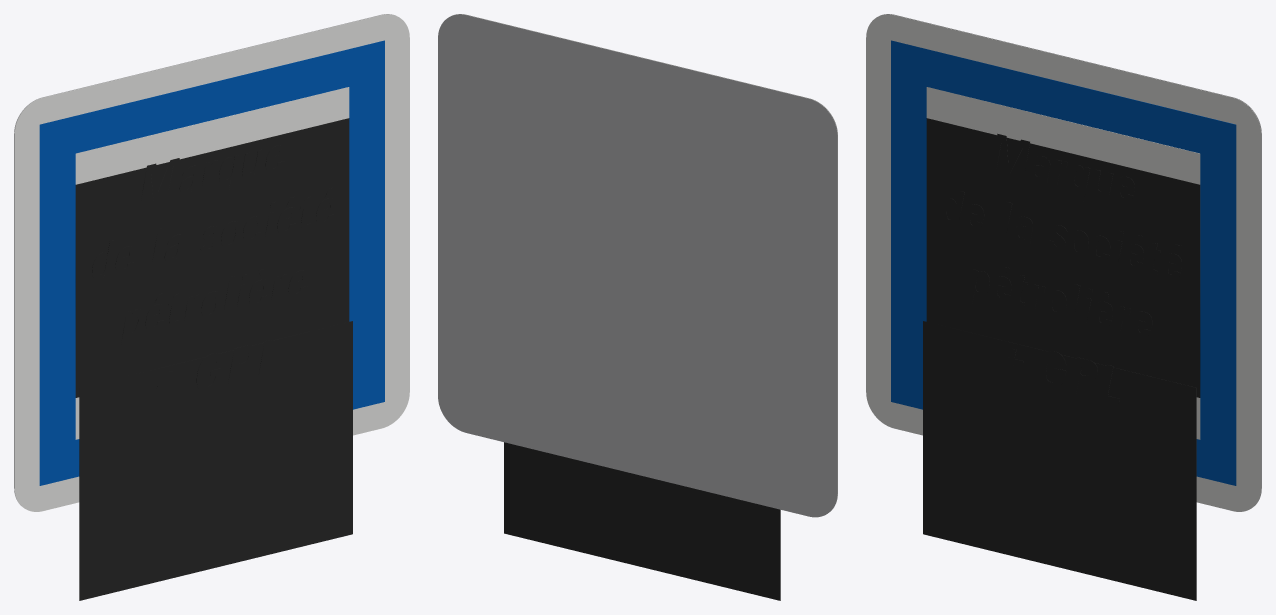
3 renders of one model, left to right at view 1: azimuth 30°, elevation 25°; view 2: azimuth 150°, elevation 25°; view 3: azimuth 330°, elevation 25°, orthographic.
Parts seen in each view (by area): view 1: CE15f_p31, CE15f_p03, CE15f_p01, CE15f_p00, CE15f_p02, CE15f_p04, CE15f_dos, CE15f_p33, CE15f_p34; view 2: CE15f_dos, CE15f_p31, CE15f_p00; view 3: CE15f_p31, CE15f_p03, CE15f_p01, CE15f_p00, CE15f_p02, CE15f_p04, CE15f_dos, CE15f_p33, CE15f_p34.
Part boxes in pixels (x1=…): CE15f_p31: x1=79, y1=321, x2=352, y2=600; CE15f_p03: x1=75, y1=118, x2=349, y2=397; CE15f_p01: x1=39, y1=40, x2=384, y2=485; CE15f_p00: x1=14, y1=14, x2=409, y2=511; CE15f_p02: x1=75, y1=87, x2=349, y2=439; CE15f_p04: x1=140, y1=158, x2=179, y2=204; CE15f_dos: x1=14, y1=14, x2=395, y2=505; CE15f_p33: x1=196, y1=353, x2=223, y2=392; CE15f_p34: x1=227, y1=345, x2=255, y2=387; CE15f_dos: x1=438, y1=14, x2=837, y2=517; CE15f_p31: x1=504, y1=442, x2=780, y2=600; CE15f_p00: x1=452, y1=14, x2=837, y2=511; CE15f_p31: x1=923, y1=321, x2=1196, y2=600; CE15f_p03: x1=926, y1=118, x2=1200, y2=397; CE15f_p01: x1=891, y1=40, x2=1236, y2=485; CE15f_p00: x1=866, y1=14, x2=1261, y2=511; CE15f_p02: x1=926, y1=87, x2=1200, y2=439; CE15f_p04: x1=991, y1=133, x2=1029, y2=177; CE15f_dos: x1=880, y1=14, x2=1261, y2=505; CE15f_p33: x1=1039, y1=351, x2=1066, y2=388; CE15f_p34: x1=1070, y1=357, x2=1097, y2=393.
Size of the model in its own units: 0.7 by 0.8603 by 0.0159.
